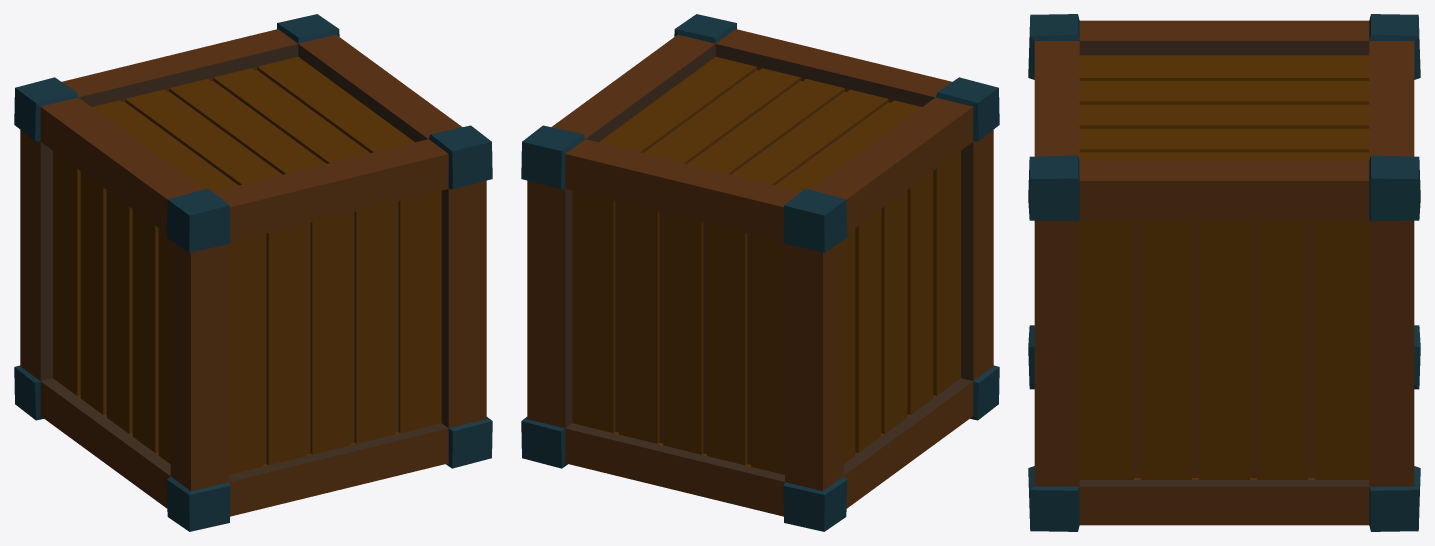
File: crate1.fbx
3 views of the same model, side by side, from view 1: azimuth 30°, elevation 25°; view 2: azimuth 150°, elevation 25°; view 3: azimuth 270°, elevation 25° (orthographic). The views are drawn at different scales.
Visible parts, largest first — view 1: wooden_crate; view 2: wooden_crate; view 3: wooden_crate.
Boxes of the visible parts, x1,y1,x2,y2 form: wooden_crate: [14, 14, 492, 531]; wooden_crate: [521, 14, 999, 531]; wooden_crate: [1028, 14, 1420, 531].
Size of the model in its own units: 2.07 by 2.07 by 2.07.
